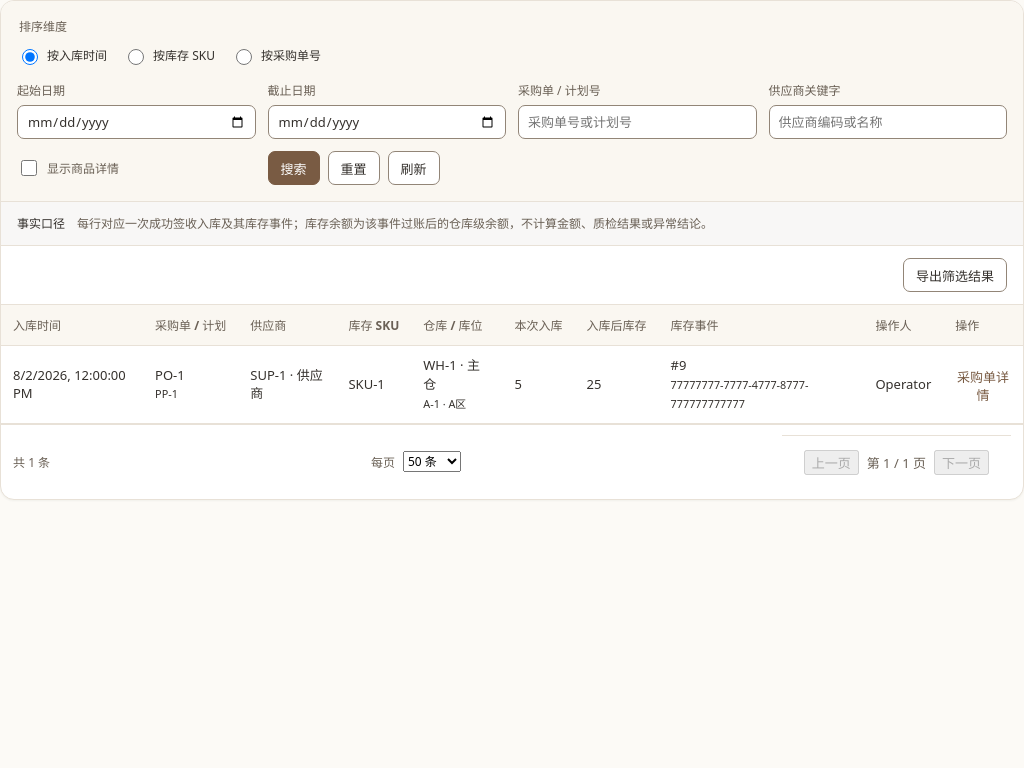
procurement ledger page › announces an oversized export and permits retry
Click the button "导出筛选结果".
click(955, 275)  # box [903, 258, 1007, 292]
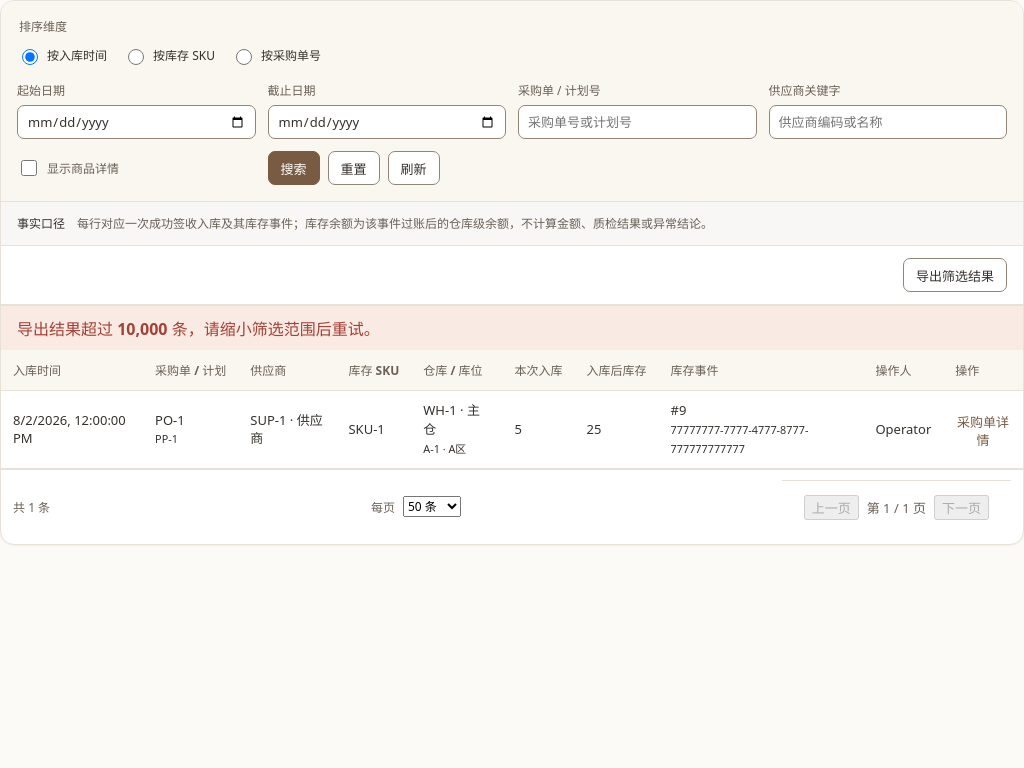
expect the message shows "超过 10,000 条": met, box [17, 318, 380, 340]
